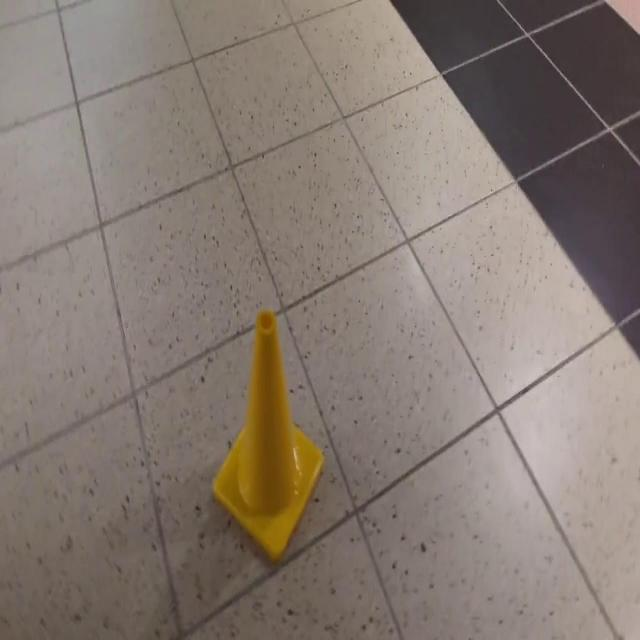frc_cone: (210, 309, 326, 569)
